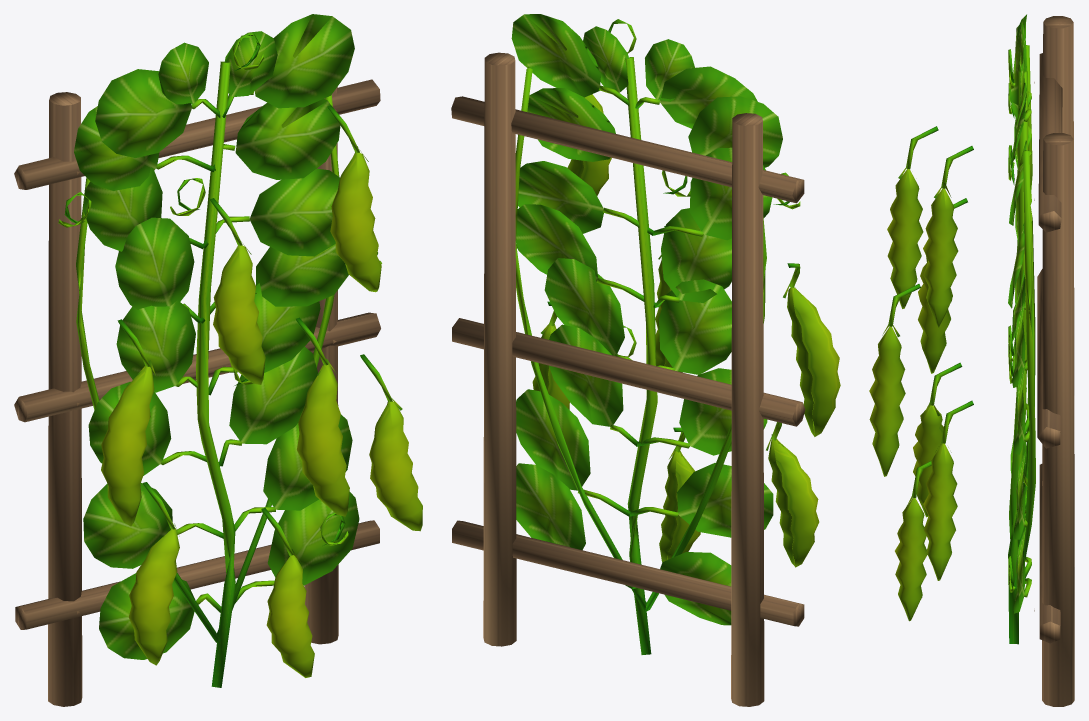
Rendered from NP_Pea_Ready_LOD1.fbx.
The picture shows the model from 3 angles, left to right: view 1: azimuth 30°, elevation 25°; view 2: azimuth 150°, elevation 25°; view 3: azimuth 270°, elevation 25°; orthographic projection. The views are drawn at different scales.
Parts seen in each view (by area): view 1: NP_Pea_Ready; view 2: NP_Pea_Ready; view 3: NP_Pea_Ready.
Boxes of the visible parts, x1,y1,x2,y2 form: NP_Pea_Ready: [14, 14, 422, 706]; NP_Pea_Ready: [451, 14, 840, 706]; NP_Pea_Ready: [869, 14, 1074, 706].
Bounding box in the file's own units: 64.84 × 113 × 34.92.
